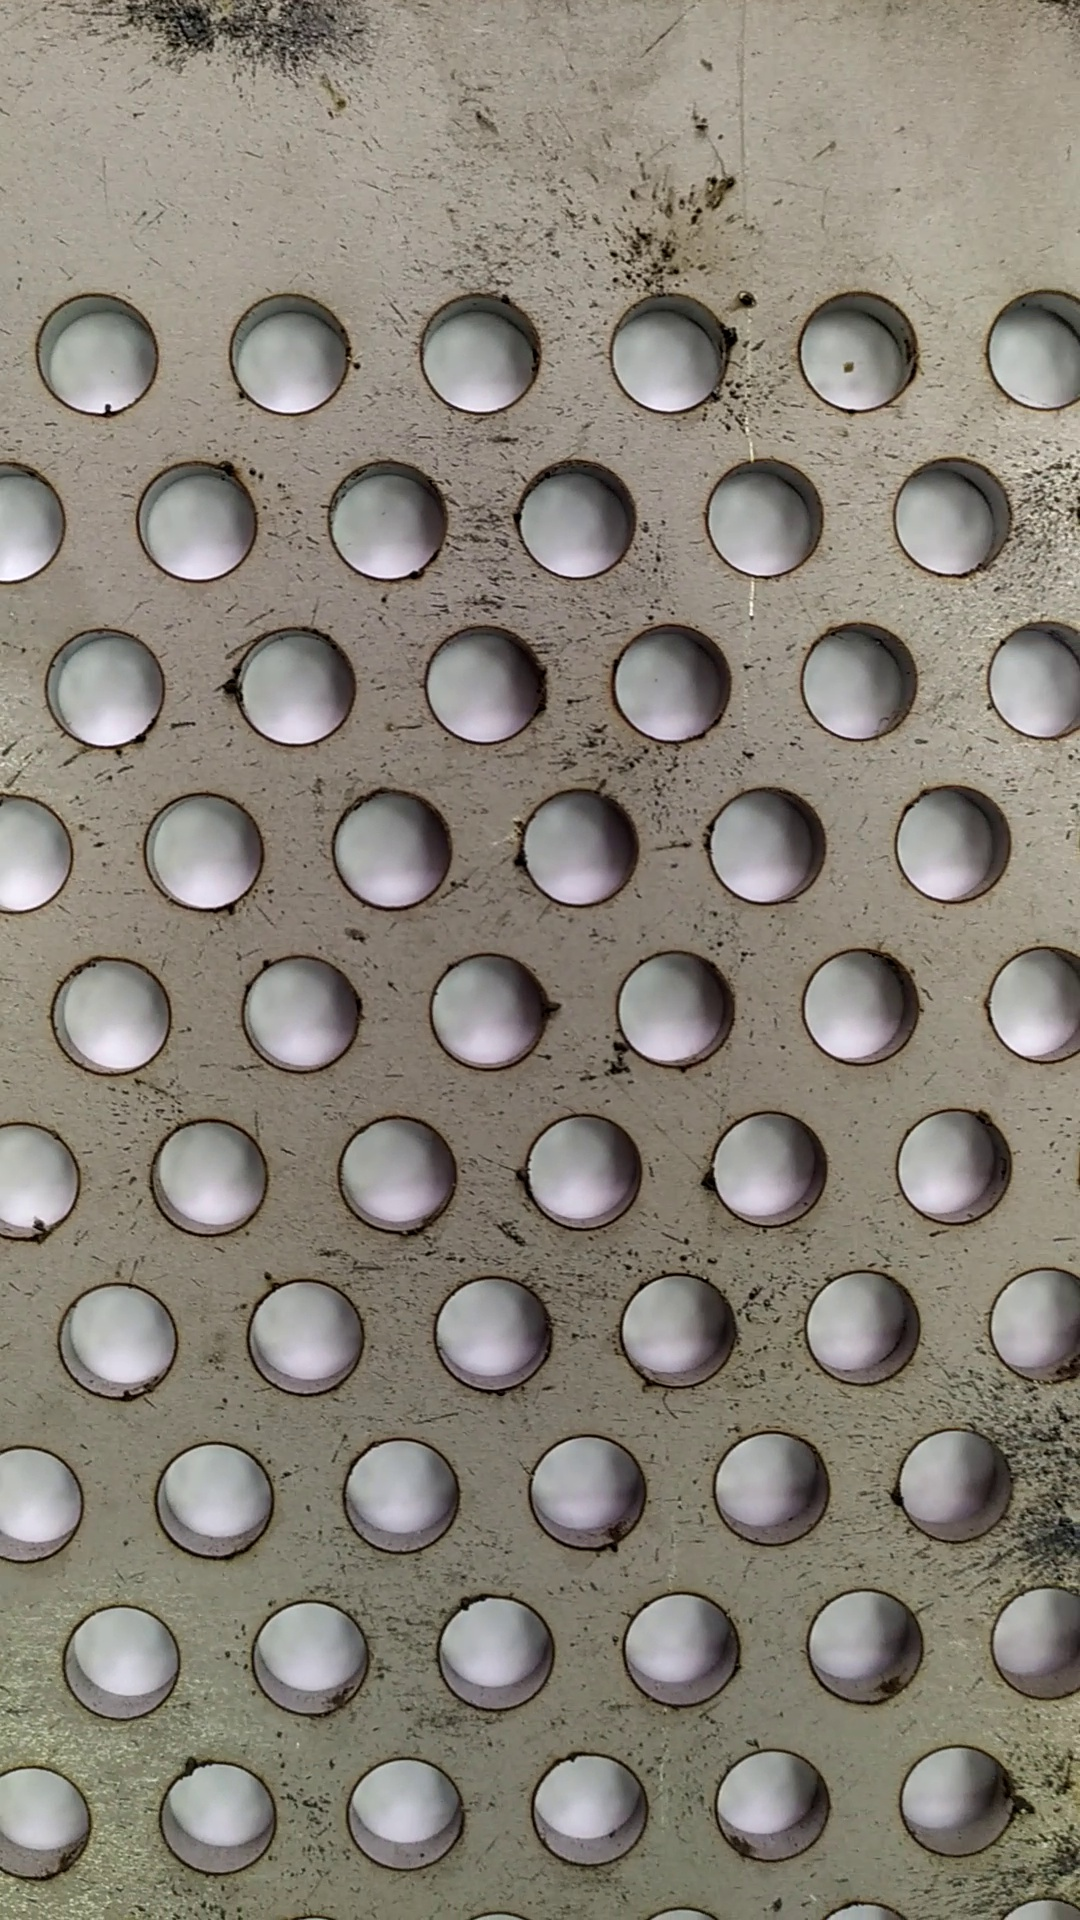Hole: (324, 1098, 471, 1246), (120, 448, 272, 591), (508, 781, 655, 926), (696, 1097, 840, 1244), (322, 771, 462, 922), (240, 1592, 385, 1735), (504, 450, 653, 589), (26, 945, 179, 1081), (877, 444, 1022, 587), (704, 1730, 847, 1875), (26, 280, 173, 419), (131, 783, 280, 920), (794, 936, 936, 1079), (218, 613, 361, 754), (49, 1270, 196, 1407), (415, 617, 556, 760), (593, 613, 736, 754), (785, 611, 924, 754), (604, 940, 745, 1081), (34, 615, 173, 758), (516, 1101, 661, 1238), (787, 280, 928, 419), (603, 1265, 745, 1403), (411, 280, 551, 419), (53, 1592, 193, 1731), (426, 1585, 567, 1724), (222, 281, 367, 415), (142, 1436, 291, 1567), (232, 1271, 371, 1411), (880, 1420, 1033, 1545), (597, 284, 742, 415), (698, 779, 836, 916), (881, 777, 1021, 913), (146, 1750, 289, 1883), (798, 1582, 943, 1713), (516, 1429, 665, 1556), (887, 1101, 1025, 1238), (791, 1262, 932, 1395), (338, 1753, 485, 1879), (233, 944, 369, 1081), (698, 1424, 837, 1557), (318, 452, 455, 587), (891, 1741, 1029, 1875), (425, 942, 563, 1075), (141, 1112, 280, 1242), (426, 1270, 564, 1399), (612, 1585, 749, 1713), (700, 450, 832, 582), (332, 1429, 467, 1557), (526, 1750, 659, 1873)
